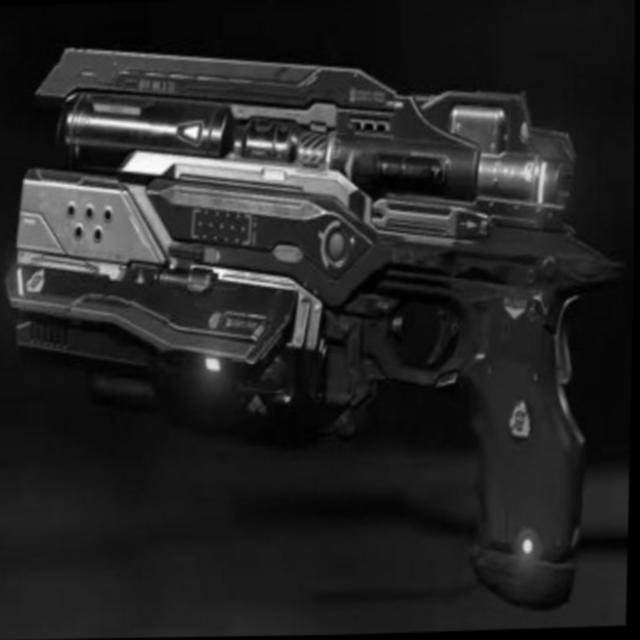weapon: (4, 10, 640, 634)
